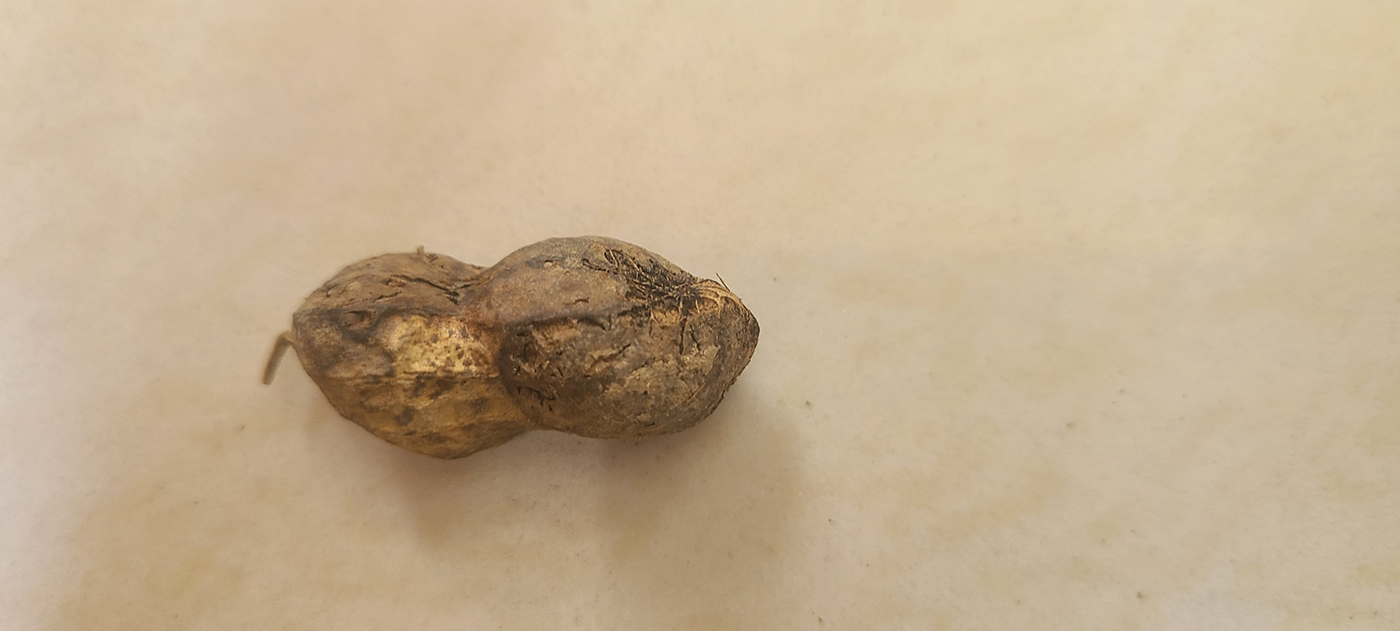l: (273, 230, 765, 460)
